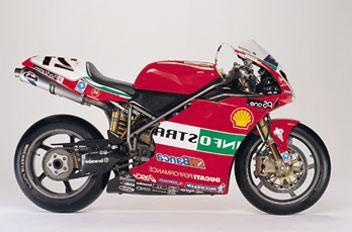motorcycle: (9, 37, 336, 219)
